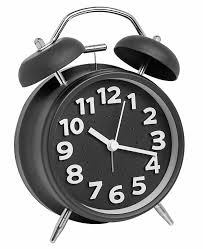alarm_clock: (14, 3, 181, 238), (25, 3, 181, 238)
